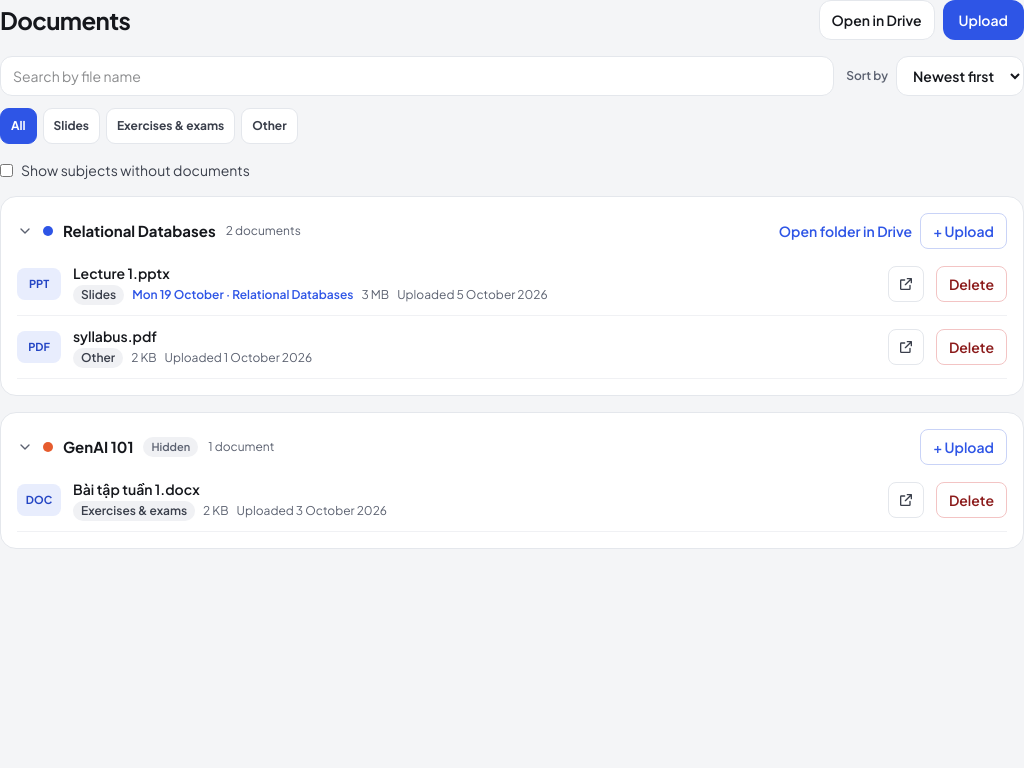
Test: DocumentsPage › a section's + Upload opens the dialog with that subject preselected
The width and height of the screenshot is (1024, 768).
Click the button with aria-label "Upload to GenAI 101" at x=964, y=447, box [920,429,1007,465]
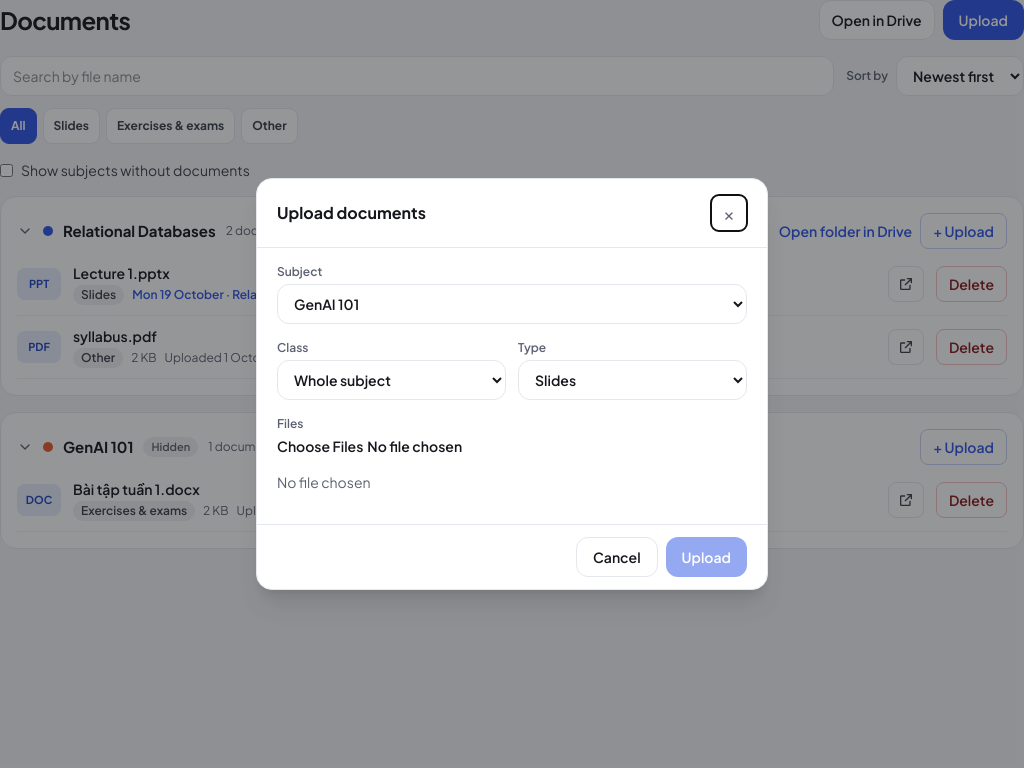
Expected: the dropdown labelled "Subject" shows "GenAI 101", [277,284,747,324]
